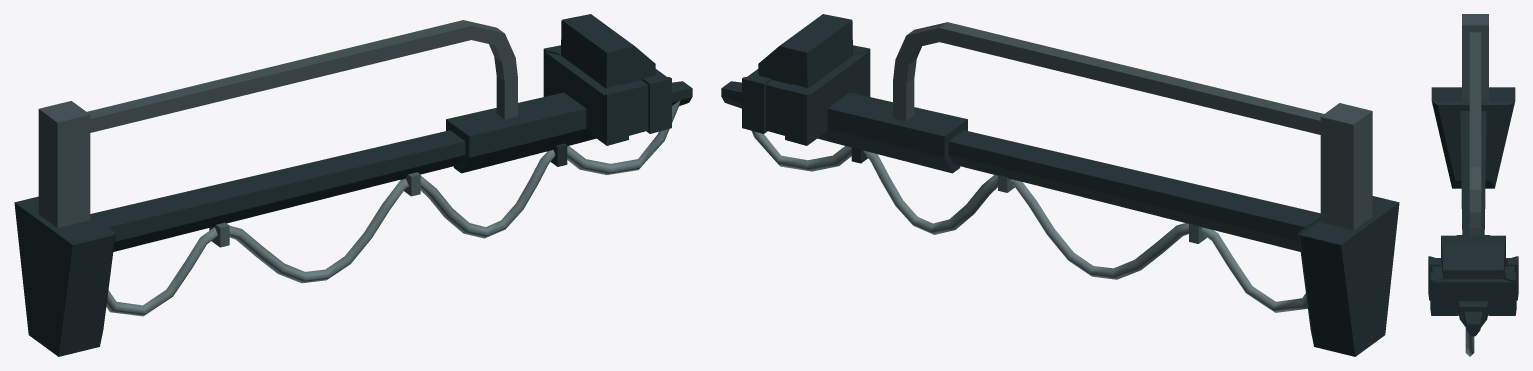
Rendered from SM_Misc_03.fbx.
The picture shows the model from 3 angles, left to right: view 1: azimuth 30°, elevation 25°; view 2: azimuth 150°, elevation 25°; view 3: azimuth 270°, elevation 25°; orthographic projection. The views are drawn at different scales.
Visible parts, largest first — view 1: SM_Misc_03; view 2: SM_Misc_03; view 3: SM_Misc_03.
Boxes of the visible parts, x1,y1,x2,y2 form: SM_Misc_03: [14, 14, 692, 356]; SM_Misc_03: [721, 14, 1399, 356]; SM_Misc_03: [1428, 14, 1518, 356].
Bounding box in the file's own units: 327 × 111 × 55.77.
1 material, 1 textured.
